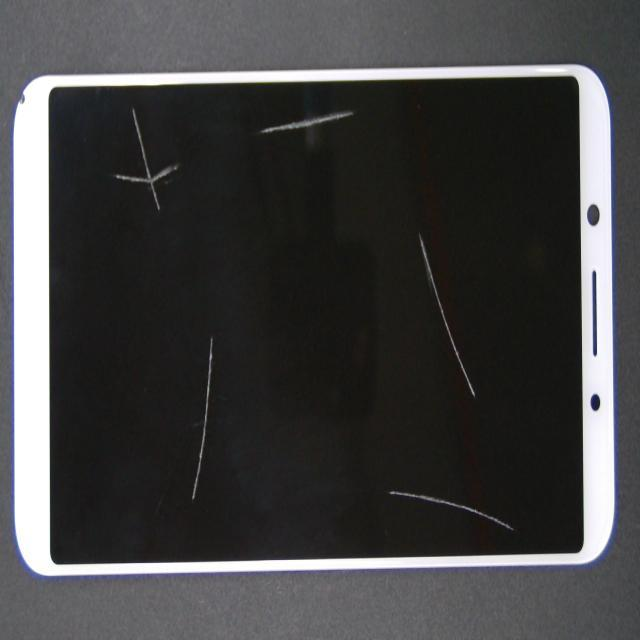scratch: (418, 230, 473, 401), (113, 95, 183, 216), (388, 494, 514, 536), (191, 333, 215, 511), (257, 107, 357, 135)
